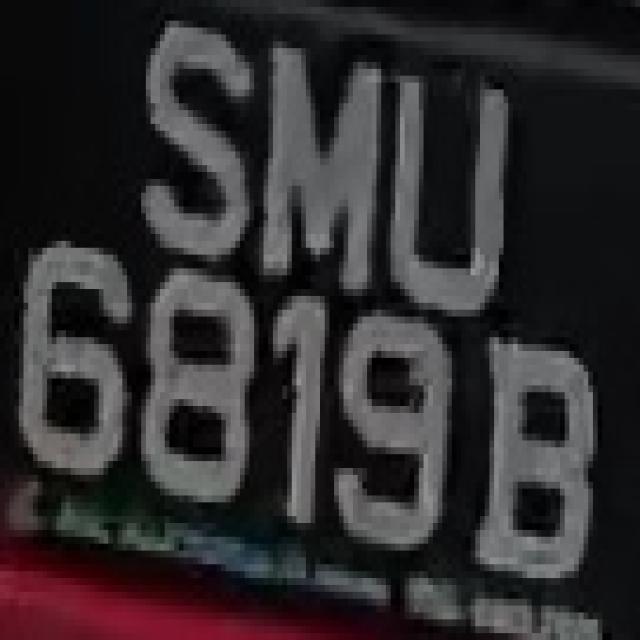1: (282, 254, 339, 550)
6: (19, 179, 127, 516)
8: (132, 241, 264, 544)
9: (339, 289, 461, 564)
B: (475, 310, 607, 612)
M: (254, 21, 391, 310)
S: (132, 0, 254, 289)
U: (391, 34, 513, 330)
